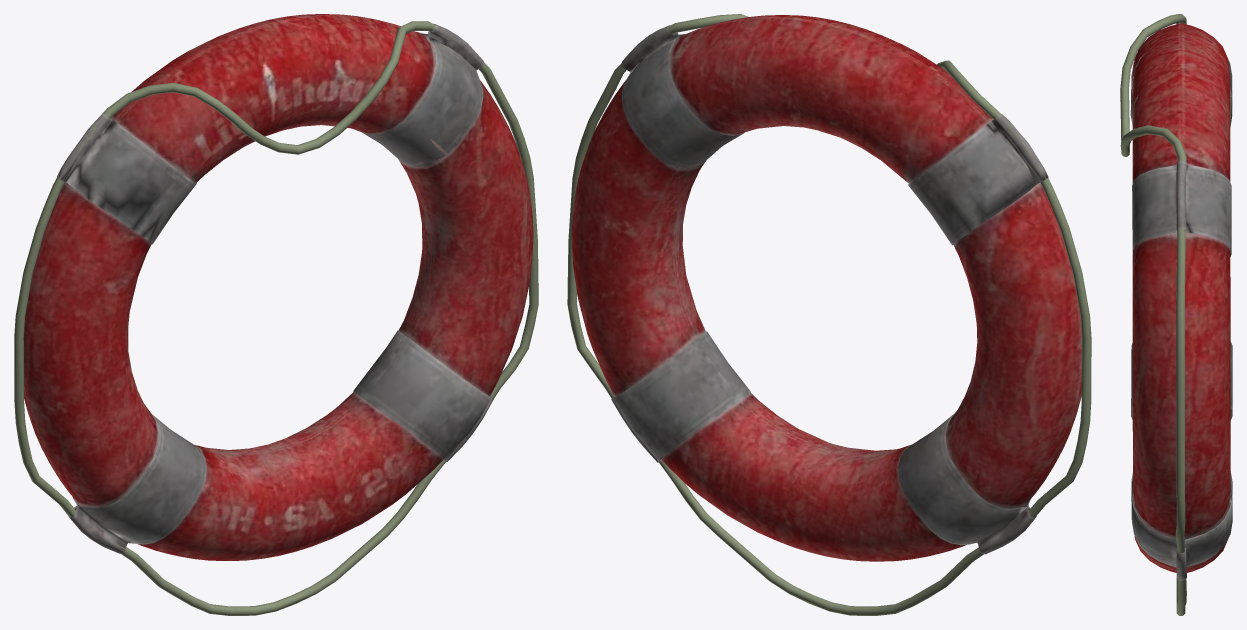
Rendered from lifebuoy.glb.
The picture shows the model from 3 angles, left to right: view 1: azimuth 30°, elevation 25°; view 2: azimuth 150°, elevation 25°; view 3: azimuth 270°, elevation 25°; orthographic projection. The views are drawn at different scales.
Visible parts, largest first — view 1: lifebuoy; view 2: lifebuoy; view 3: lifebuoy.
Boxes of the visible parts, <box> form: lifebuoy: <box>14,14,538,615</box>; lifebuoy: <box>567,14,1091,615</box>; lifebuoy: <box>1120,14,1232,615</box>.
Size of the model in its own units: 0.783 by 0.8412 by 0.1548.
Materials: 1 (1 with a texture image).
